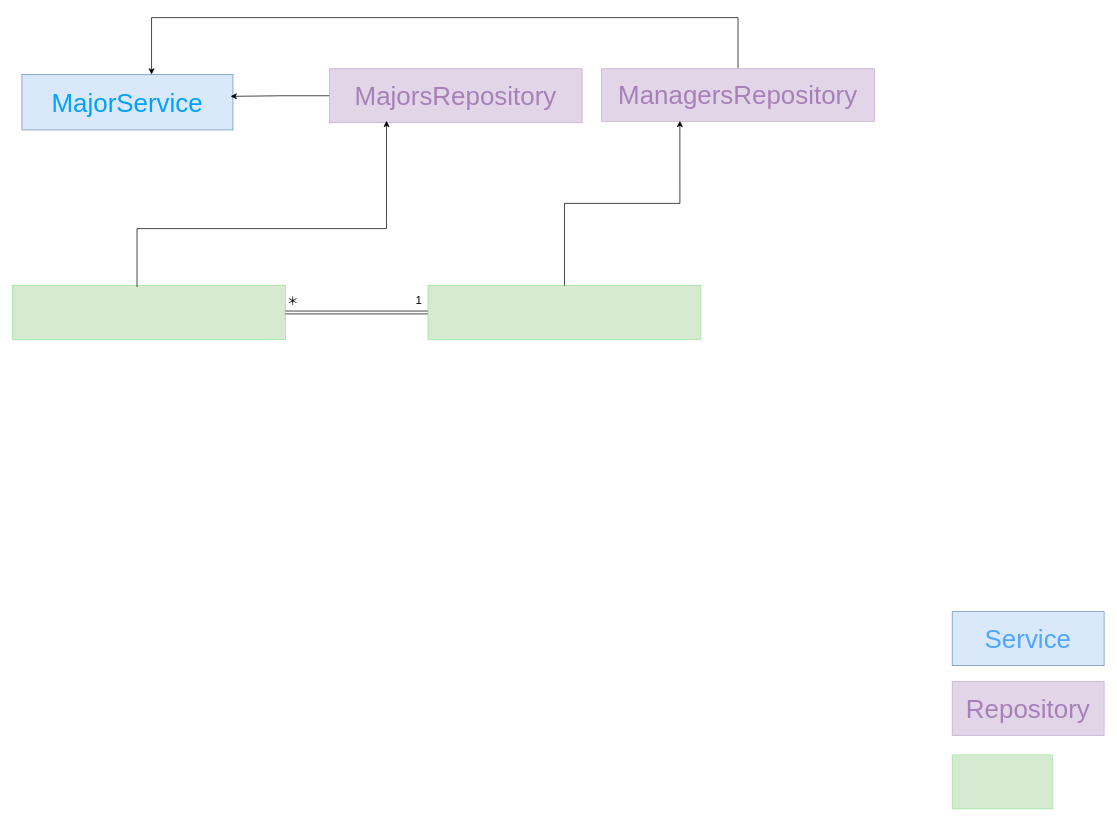
Some shapes in this 1117 by 822 pixel diagram are drawn without their labels. The shapes that lost their labels are listed below. From the top down, each one's centre as x and y in pixels, then its label:
At (x=148, y=312): "Major".
At (x=564, y=312): "Manager".
At (x=1001, y=781): "Entity".
